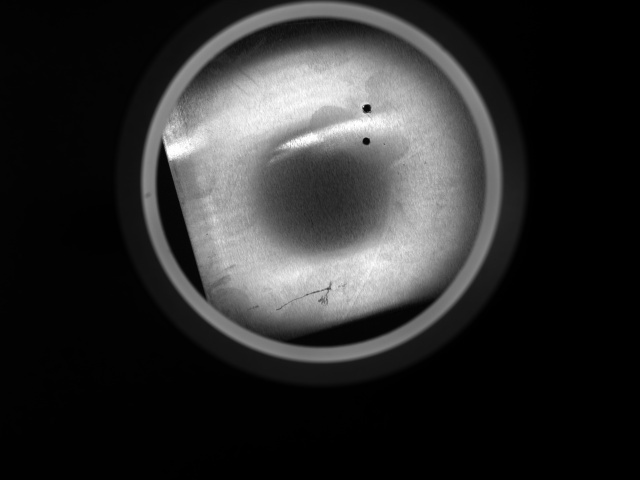ca_shang: (272, 276, 337, 312)
zhen_kong: (358, 134, 375, 149), (359, 100, 374, 116)
